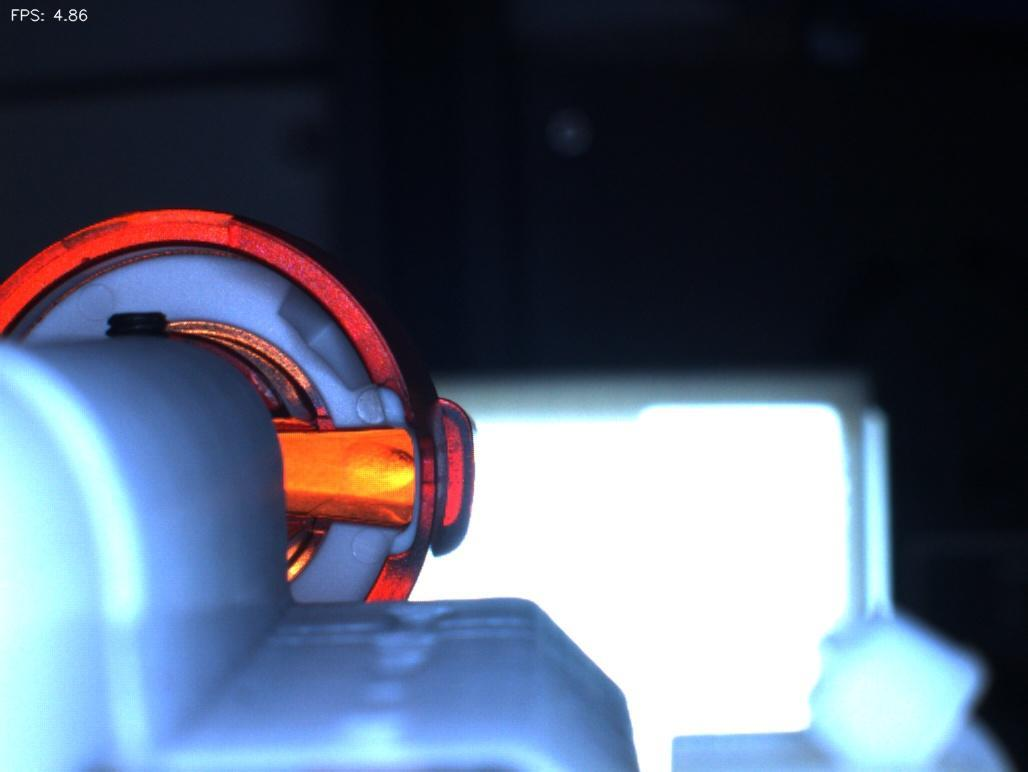Retassure: (326, 436, 422, 514)
